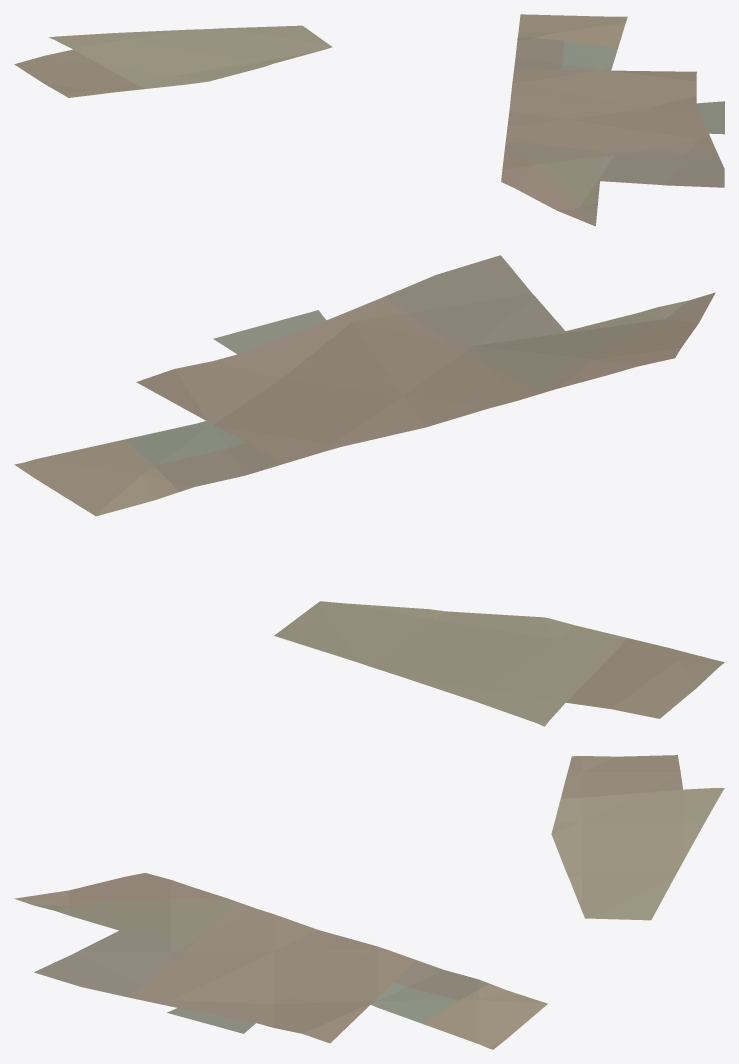
File: farm_9_11_soil.glb
3 renders of one model, top to bottom at view 1: azimuth 30°, elevation 25°; view 2: azimuth 150°, elevation 25°; view 3: azimuth 270°, elevation 25°, orthographic. The views are drawn at different scales.
Visible parts, largest first — view 1: geometry_0; view 2: geometry_0; view 3: geometry_0.
Boxes of the visible parts, x1=… form: geometry_0: x1=14, y1=14, x2=724, y2=226; geometry_0: x1=14, y1=255, x2=724, y2=726; geometry_0: x1=14, y1=755, x2=724, y2=1049.
Bounding box in the file's own units: 509 × 23.94 × 554.
